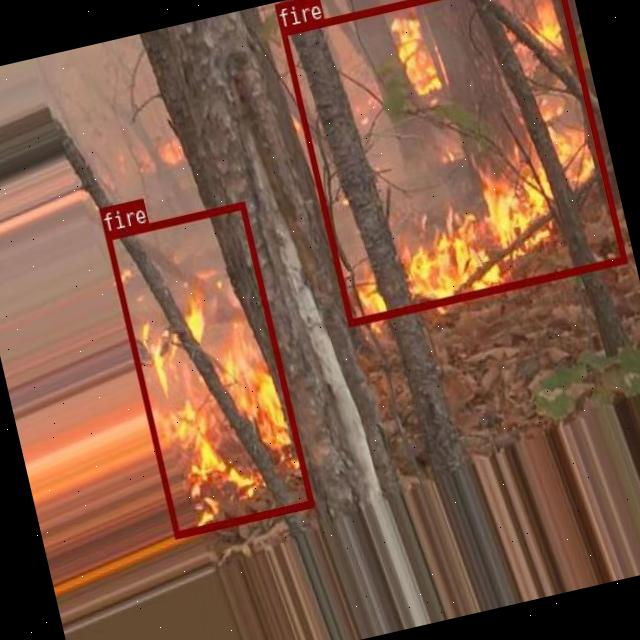fire: (279, 0, 625, 324), (104, 200, 312, 538)
